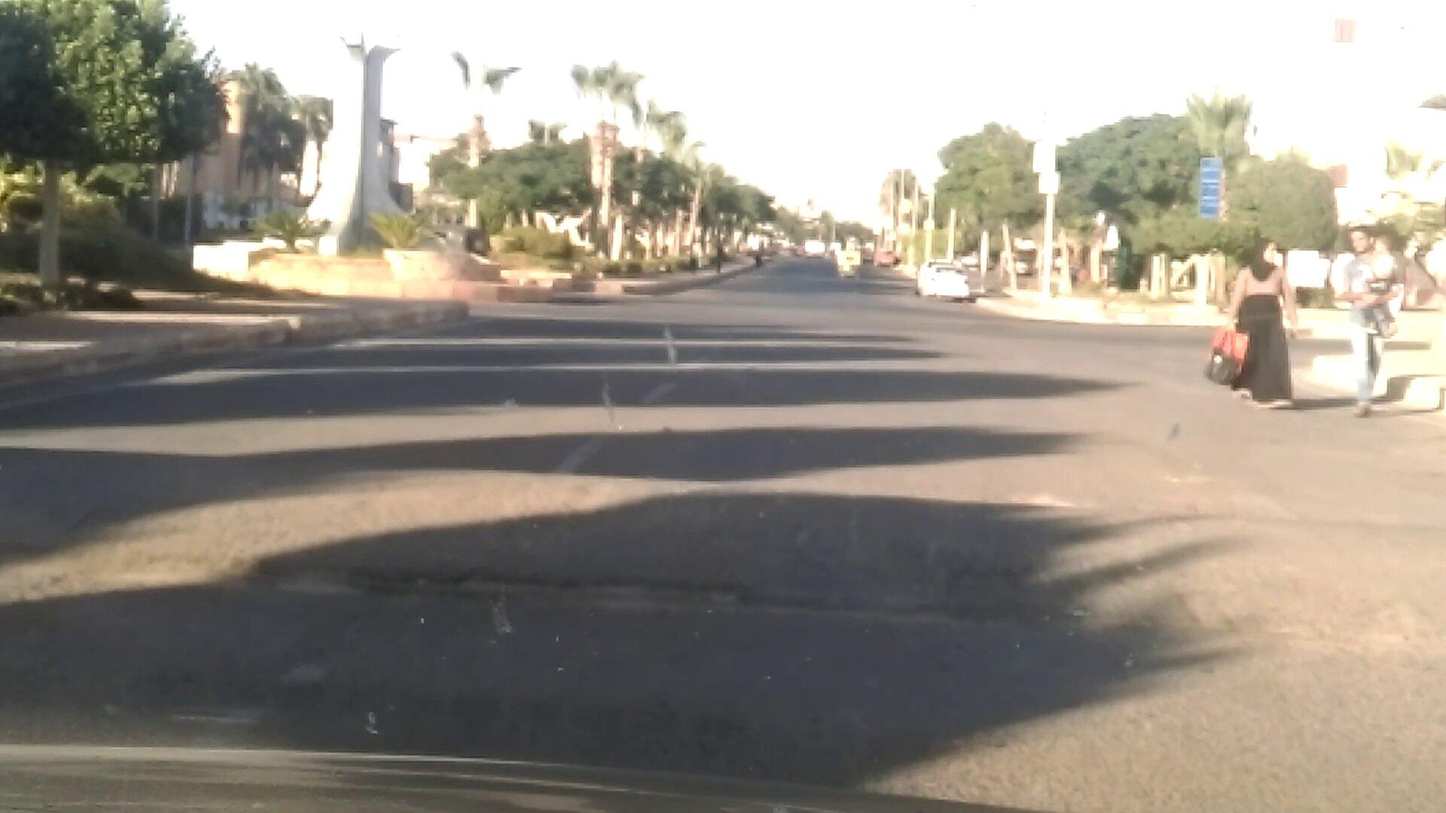Pothole: (213, 544, 1062, 659)
